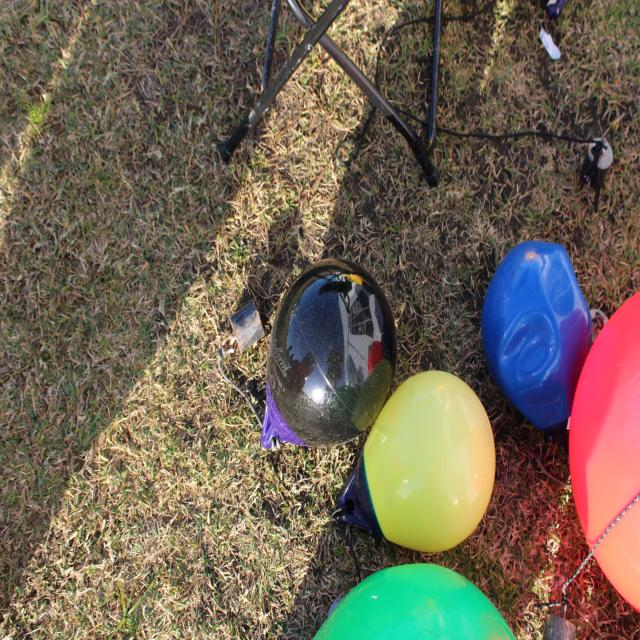black-buoy: (261, 271, 394, 446)
blue-buoy: (491, 240, 592, 436)
green-buoy: (267, 559, 566, 640)
red-buoy: (568, 272, 640, 623)
yellow-duck: (356, 366, 501, 559)
